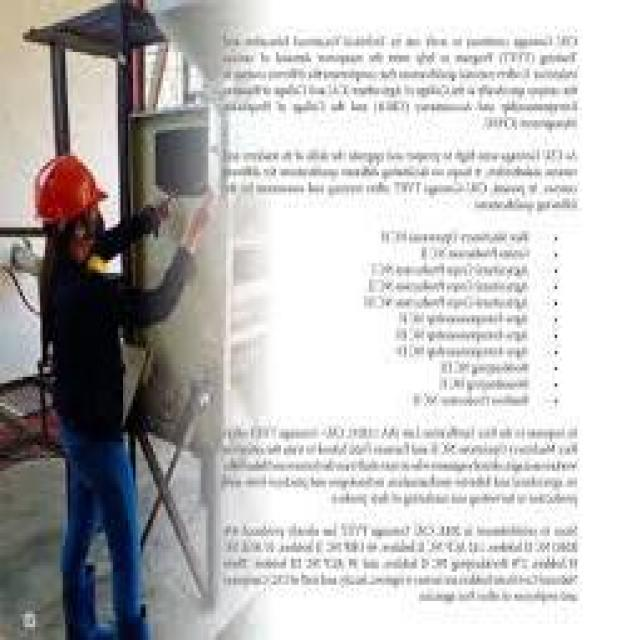Safety-Helmet: (20, 147, 116, 240)
